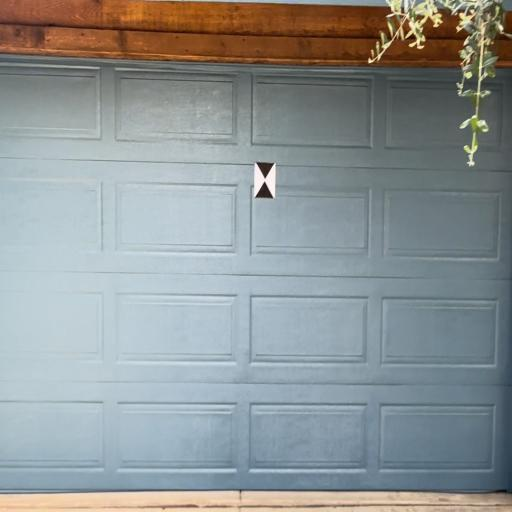target: (254, 162, 276, 200)
